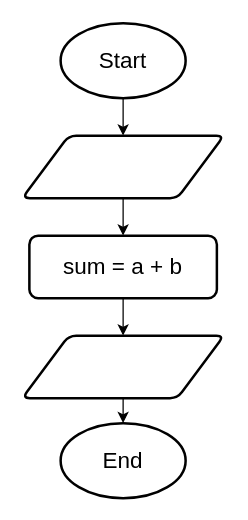
Image size: 248x520. Some labels were removed from this diagram. Here are the shapes that lost their labels. From the top down, the centre of each, then its label:
At [122,166]: "Input a, b".
At [122,366]: "Display sum".
